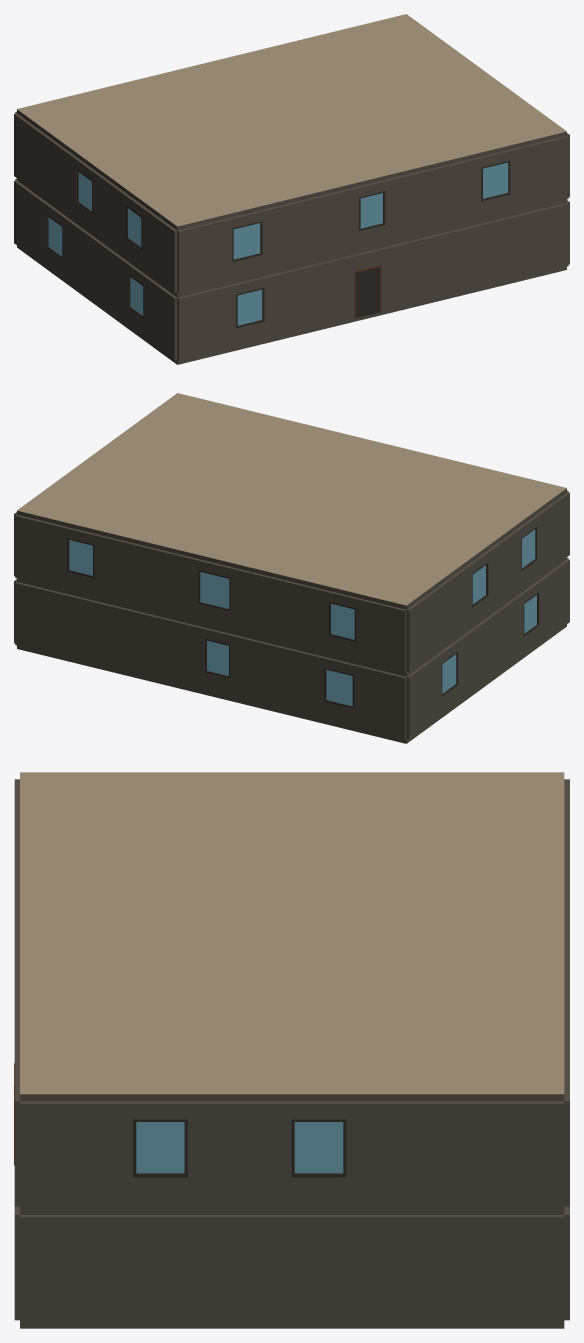
File: Do_Shesti_Cottage.fbx
The picture shows the model from 3 angles, top to bottom: view 1: azimuth 30°, elevation 25°; view 2: azimuth 150°, elevation 25°; view 3: azimuth 270°, elevation 25°; orthographic projection. The views are drawn at different scales.
Visible parts, largest first — view 1: Ceiling | upper storey, South | study, South | parlour, South | bedroom, West | bedroom, South | upper hall, South | vestibule, West | parlour, West | dining room, South | bulb store, South | bathroom, West | gallery (+14 smaller); view 2: Ceiling | upper storey, North | cross gallery, North | kitchen, North | dining, West | bedroom, North | stair, West | dining room, West | parlour, West | gallery, North | cross gallery | fixed sash 2, North | dining | fixed sash 1, North | cross gallery | fixed sash 3 (+12 smaller); view 3: Ceiling | upper storey, East | study, East | bulb store, East | kitchen, East | gallery, East | study | fixed sash 2, East | study | fixed sash 1, Ceiling | below Study, North | cross gallery, Floor | Bulb store, Floor | Kitchen, South | study (+2 smaller).
Boxes of the visible parts, x1,y1,x2,y2 form: Ceiling | upper storey: [17, 14, 566, 230]; South | study: [430, 136, 568, 232]; South | parlour: [177, 265, 314, 360]; South | bedroom: [177, 198, 314, 293]; West | bedroom: [44, 135, 177, 293]; South | upper hall: [313, 169, 431, 260]; South | vestibule: [313, 236, 431, 327]; West | parlour: [95, 239, 177, 360]; West | dining room: [14, 180, 97, 301]; South | bulb store: [498, 203, 568, 282]; South | bathroom: [430, 219, 499, 299]; West | gallery: [14, 113, 46, 197]; Ceiling | upper storey: [17, 393, 566, 609]; North | cross gallery: [15, 515, 406, 672]; North | kitchen: [15, 582, 153, 678]; North | dining: [269, 644, 406, 739]; West | bedroom: [437, 492, 569, 649]; North | stair: [152, 615, 270, 706]; West | dining room: [406, 617, 490, 739]; West | parlour: [488, 559, 569, 679]; West | gallery: [406, 588, 439, 672]; North | cross gallery | fixed sash 2: [198, 570, 230, 611]; North | dining | fixed sash 1: [324, 668, 354, 708]; North | cross gallery | fixed sash 3: [67, 538, 94, 578]; Ceiling | upper storey: [20, 772, 564, 1101]; East | study: [20, 1101, 461, 1208]; East | bulb store: [20, 1215, 305, 1322]; East | kitchen: [305, 1215, 564, 1322]; East | gallery: [462, 1101, 564, 1208]; East | study | fixed sash 2: [291, 1119, 346, 1177]; East | study | fixed sash 1: [133, 1119, 187, 1177]; Ceiling | below Study: [20, 1209, 461, 1214]; North | cross gallery: [564, 779, 569, 1206]; Floor | Bulb store: [20, 1322, 305, 1328]; Floor | Kitchen: [305, 1322, 564, 1328]; South | study: [14, 988, 19, 1206].
Size of the model in its own units: 2004 by 670 by 1440.
